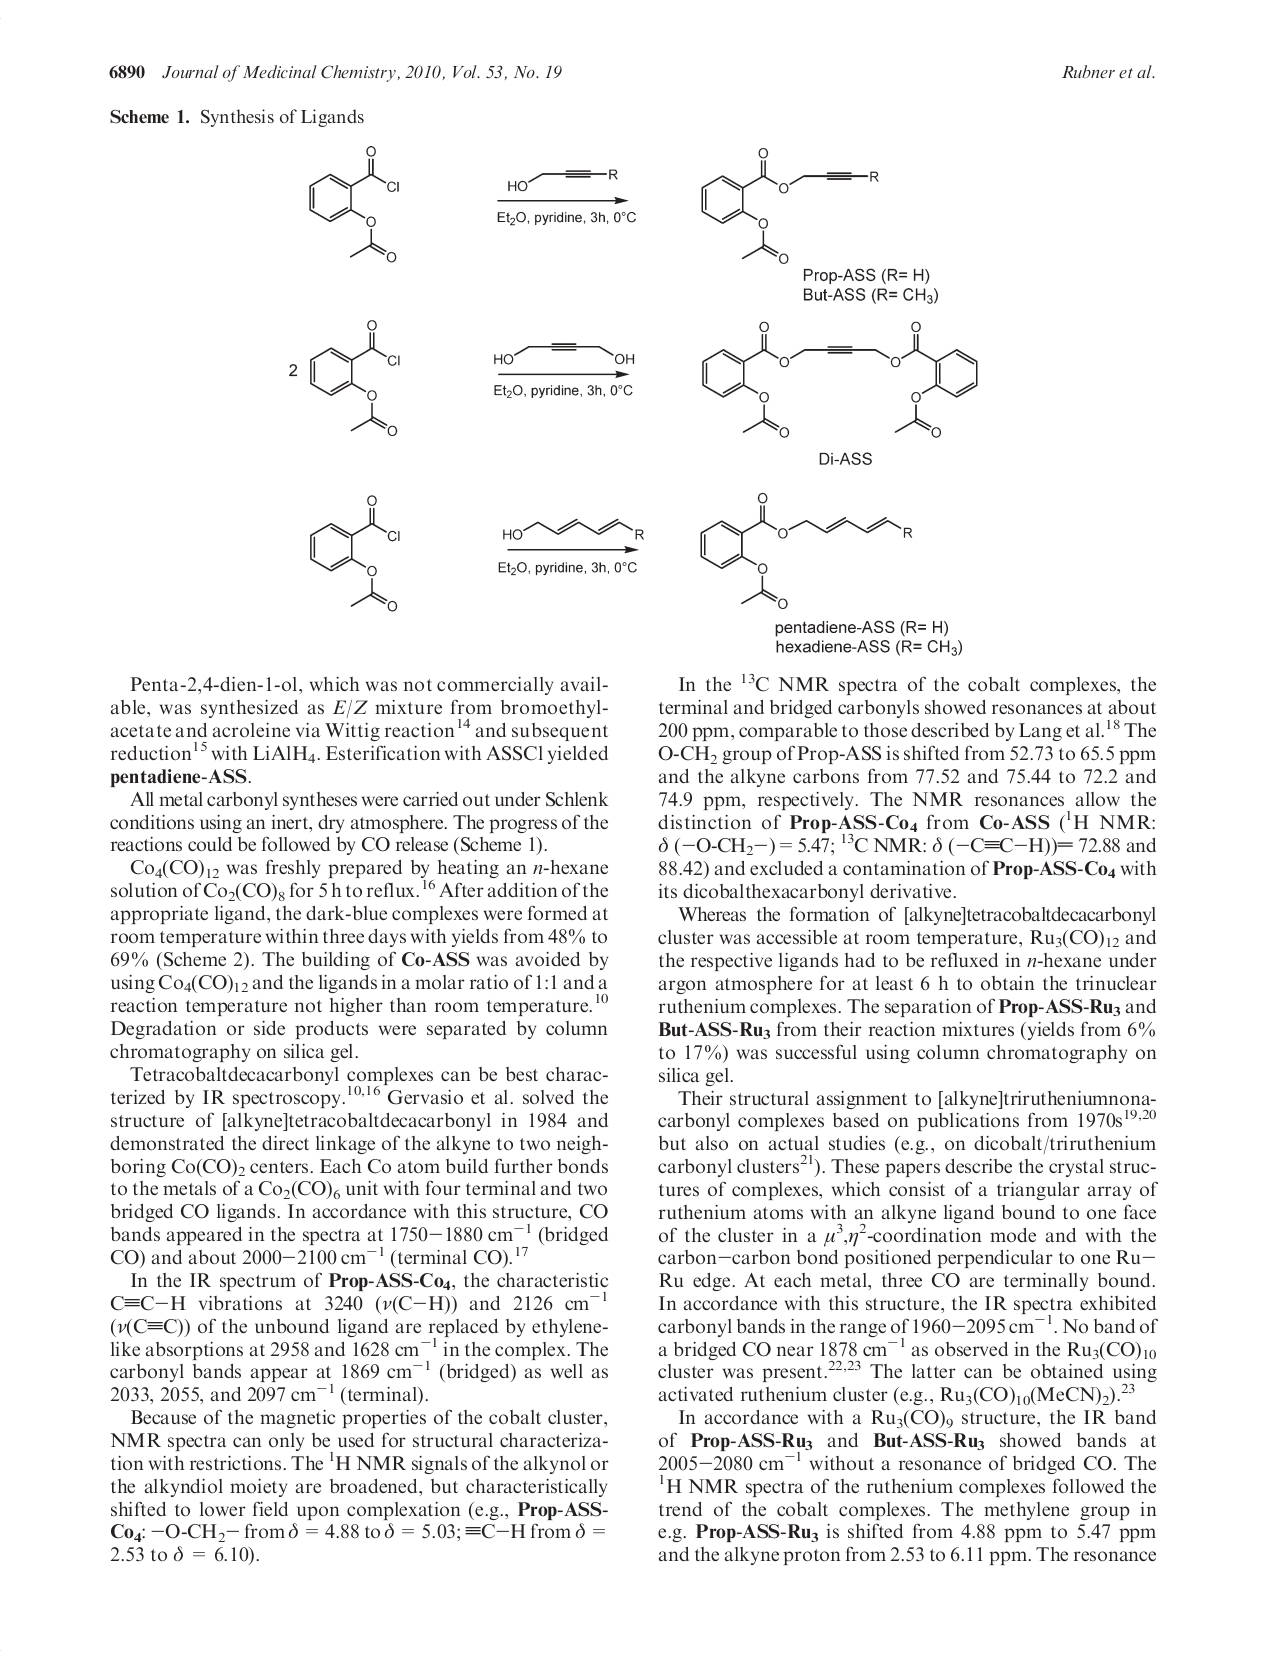exist_molecular: (701, 322, 979, 439), (698, 489, 915, 610), (699, 146, 880, 265), (306, 144, 402, 265), (309, 319, 402, 436), (309, 493, 400, 610), (501, 517, 645, 543), (492, 342, 636, 366), (505, 168, 618, 193)
